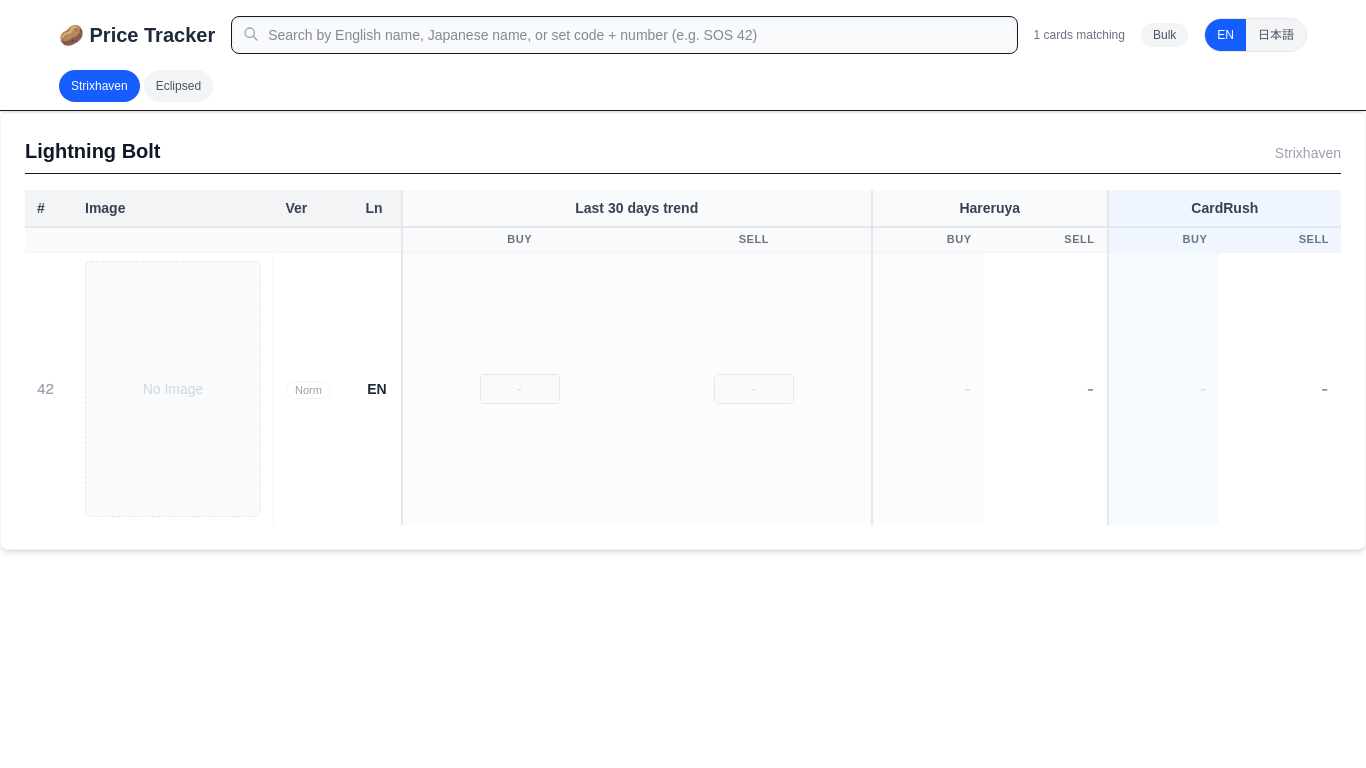
Test: CardList › finds card by Japanese name when lang is ja
In the field: [624, 35] box [231,16,1018,54], type "稲妻"
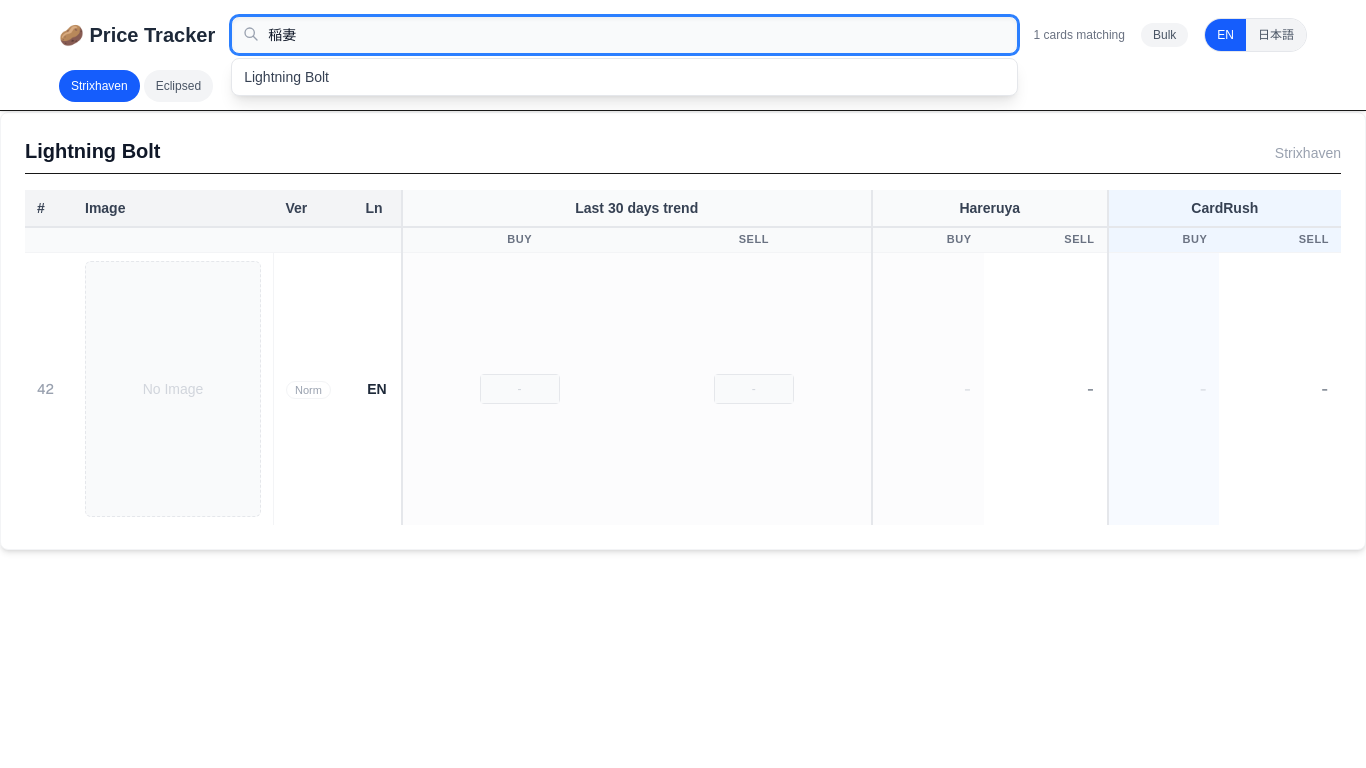
Check: the text "Lightning Bolt" is shown, box [244,67,329,87]
